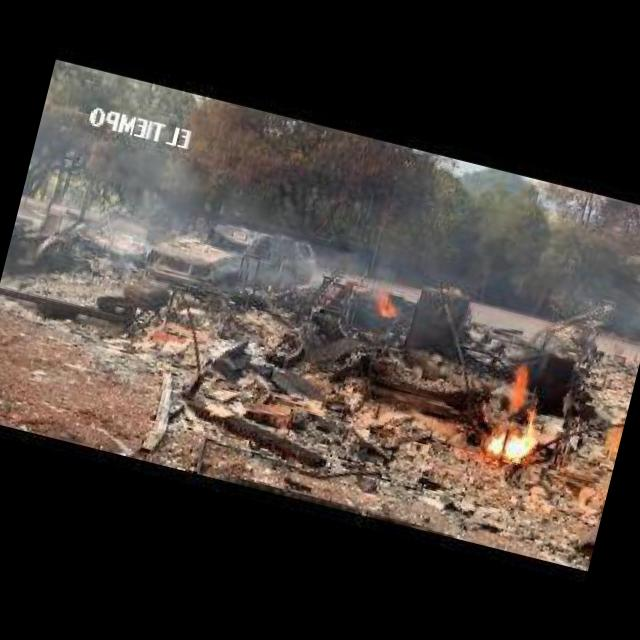fire: (486, 409, 546, 464), (500, 364, 530, 411), (374, 290, 399, 318)
